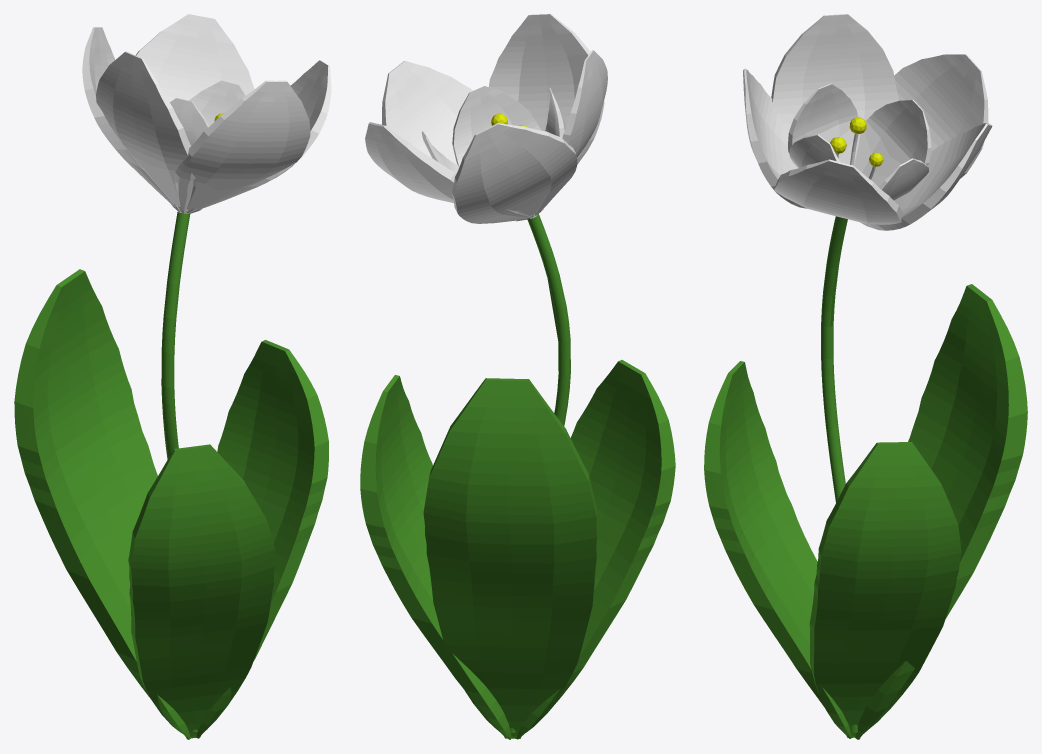
The model's file is flower.fbx.
3 renders of one model, left to right at view 1: azimuth 30°, elevation 25°; view 2: azimuth 150°, elevation 25°; view 3: azimuth 270°, elevation 25°, orthographic. The views are drawn at different scales.
Visible parts, largest first — view 1: Cube.000; view 2: Cube.000; view 3: Cube.000.
Boxes of the visible parts, x1,y1,x2,y2 form: Cube.000: [14, 14, 331, 739]; Cube.000: [360, 14, 675, 739]; Cube.000: [704, 14, 1027, 739].
Bounding box in the file's own units: 55.05 × 144 × 61.17.
